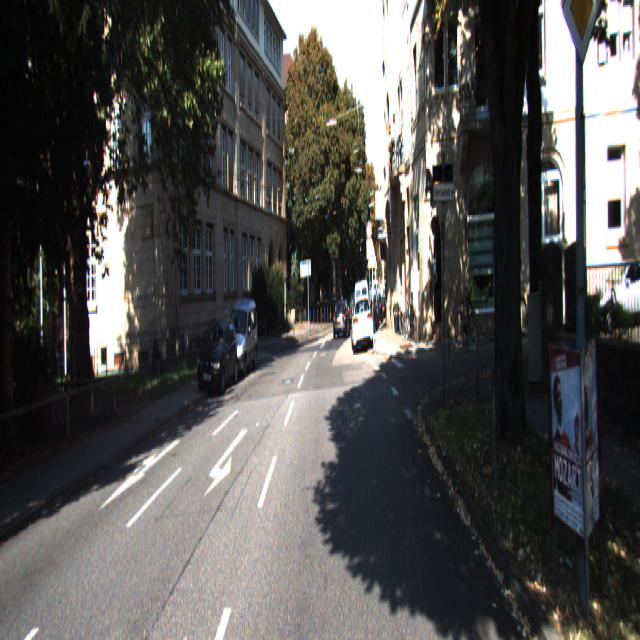Car: (586, 262, 640, 338), (194, 315, 240, 398), (222, 299, 258, 385), (351, 293, 373, 355), (353, 277, 370, 346), (333, 298, 351, 340)
DontCare: (376, 295, 388, 315)
